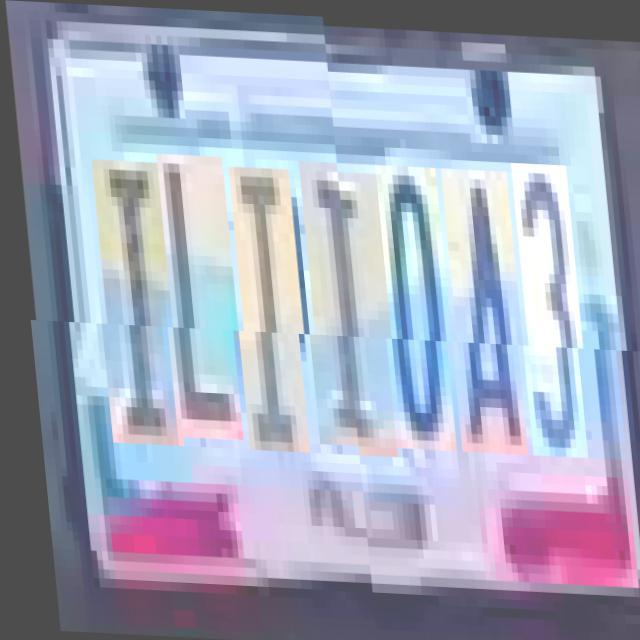3: (508, 158, 585, 452)
A: (438, 163, 525, 450)
I: (296, 166, 394, 454), (89, 168, 181, 454), (226, 173, 307, 460)
L: (154, 161, 241, 447)
O: (372, 161, 453, 447)
